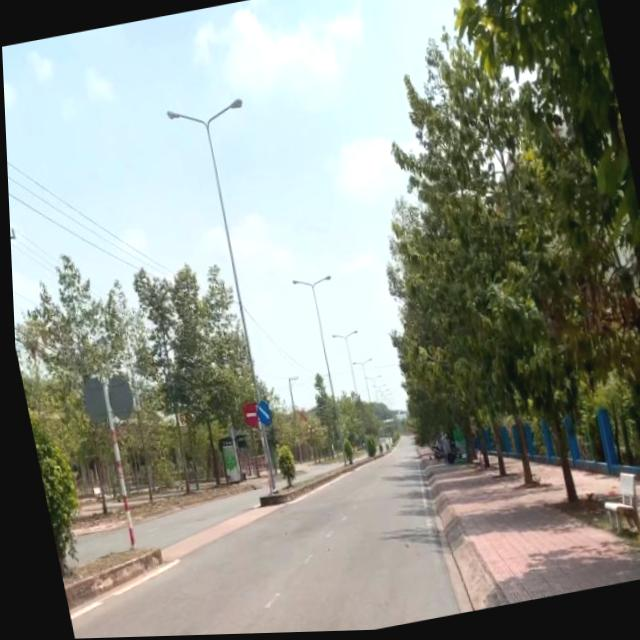Cam di nguoc chieu: (239, 403, 257, 429)
Vong chuong ngai vat sang phai: (252, 402, 270, 428)
